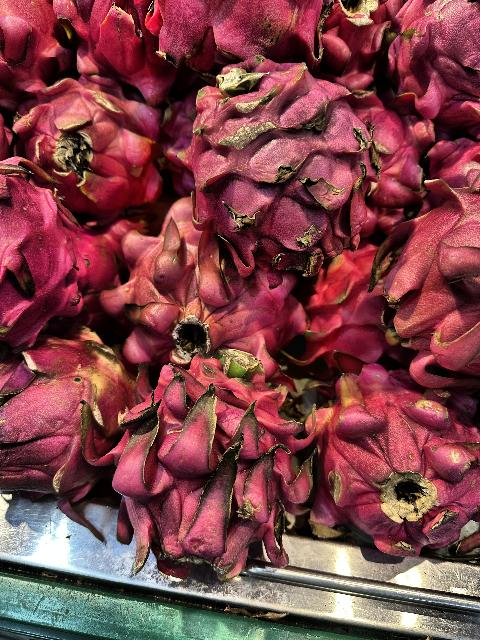buah-naga-belum-matang: (4, 330, 130, 506)
buah-naga-matang: (106, 348, 312, 562), (192, 49, 380, 267), (99, 212, 304, 371), (310, 368, 470, 568), (22, 58, 166, 208), (396, 162, 480, 372), (0, 166, 88, 350)
